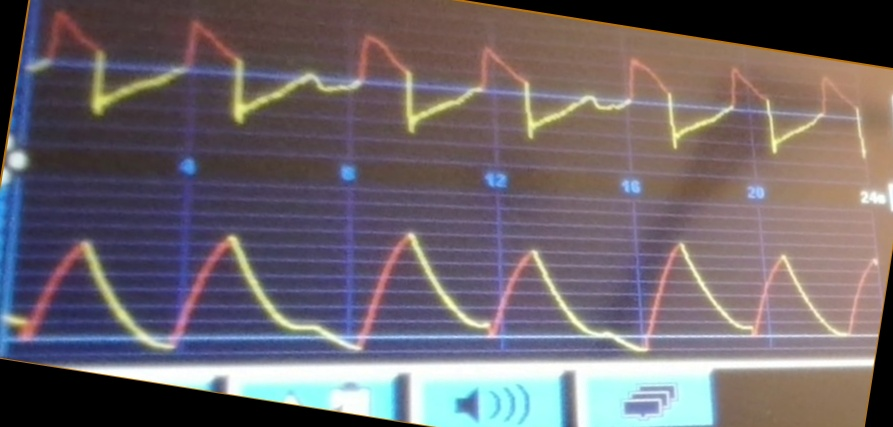Ineffective_effort Flow: (37, 8, 869, 159)
Ineffective_effort Volume: (11, 230, 874, 354)
